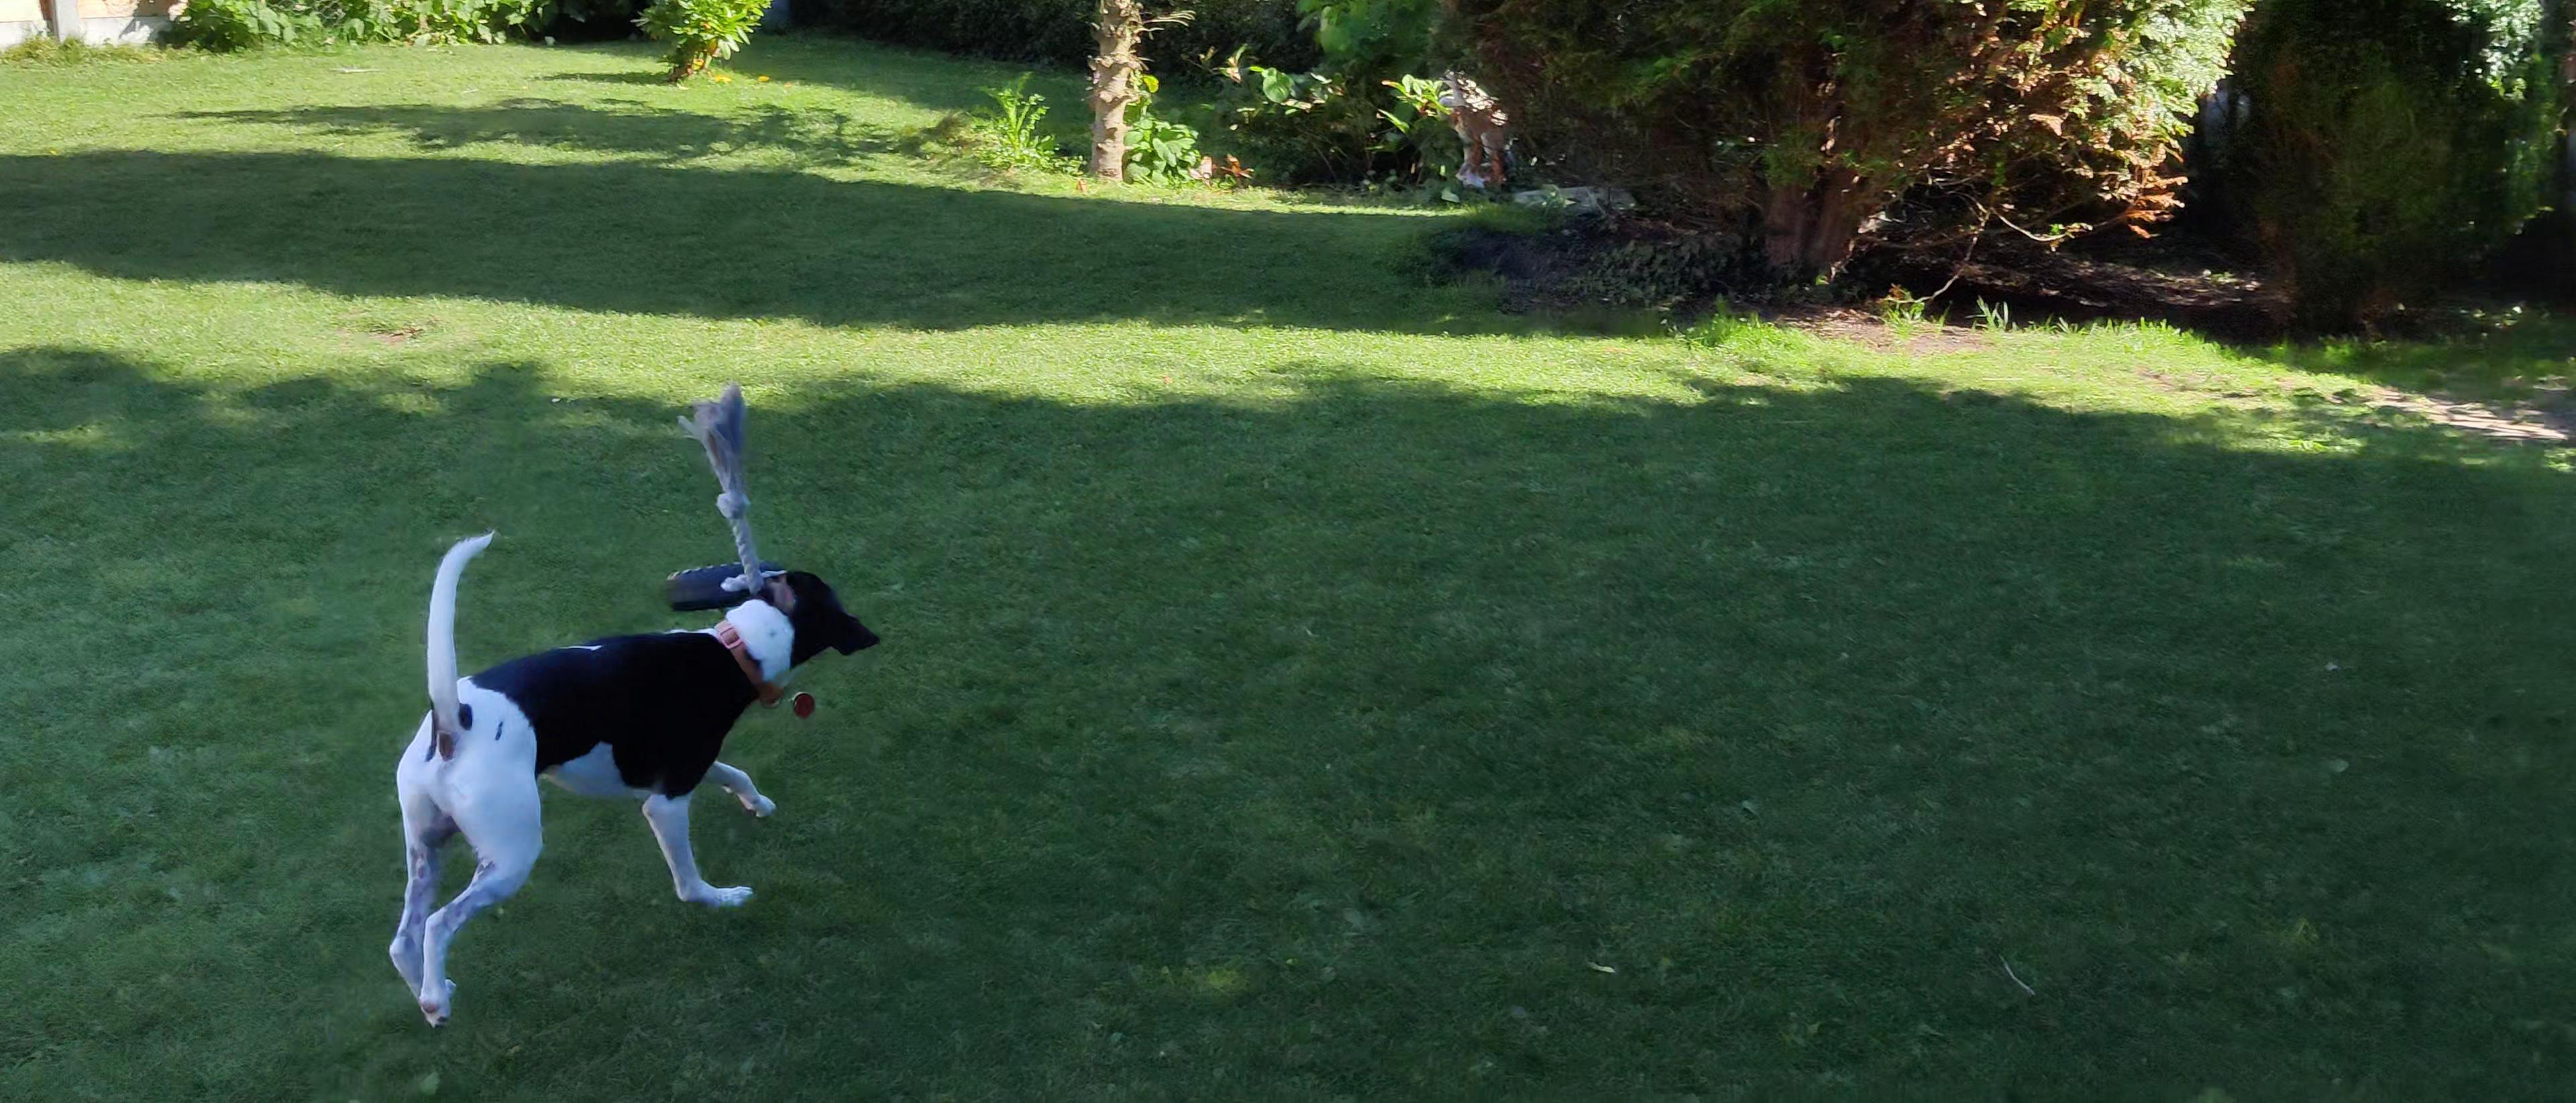Dog: (388, 531, 884, 1022)
